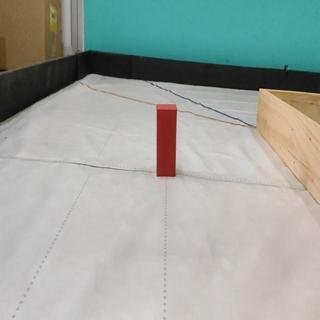redbox: (157, 102, 177, 176)
